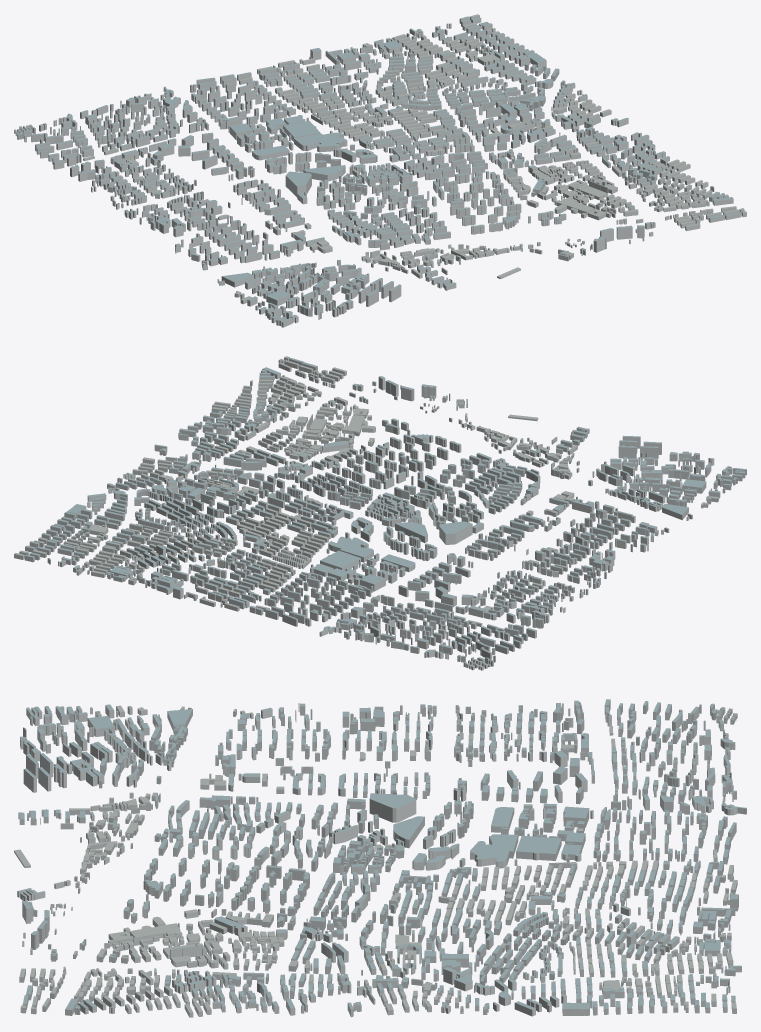
Rendered from far.glb.
3 renders of one model, top to bottom at view 1: azimuth 30°, elevation 25°; view 2: azimuth 150°, elevation 25°; view 3: azimuth 270°, elevation 25°, orthographic. The views are drawn at different scales.
Size of the model in its own units: 2140 by 48 by 2144.
